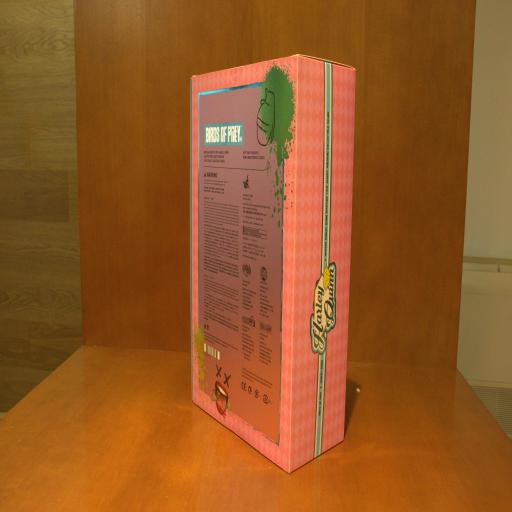Harley: (191, 54, 358, 473)
